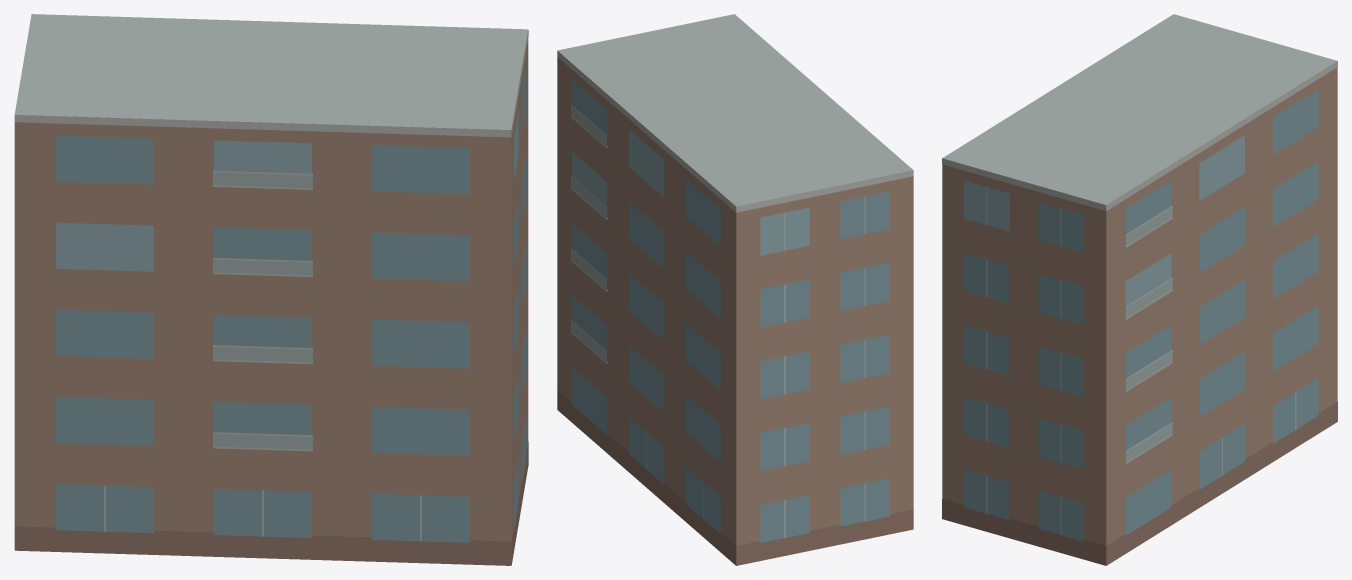
Rendered from survey-upis-32893523.glb.
3 renders of one model, left to right at view 1: azimuth 30°, elevation 25°; view 2: azimuth 150°, elevation 25°; view 3: azimuth 270°, elevation 25°, orthographic. The views are drawn at different scales.
Parts seen in each view (by area): view 1: survey-upis-32893523.tmp; view 2: survey-upis-32893523.tmp; view 3: survey-upis-32893523.tmp.
Part boxes in pixels (left/top/right/bottom): survey-upis-32893523.tmp: left=14, top=14, right=528, bottom=565; survey-upis-32893523.tmp: left=557, top=14, right=913, bottom=565; survey-upis-32893523.tmp: left=942, top=14, right=1337, bottom=565.
Size of the model in its own units: 16.48 by 14.5 by 14.42.
